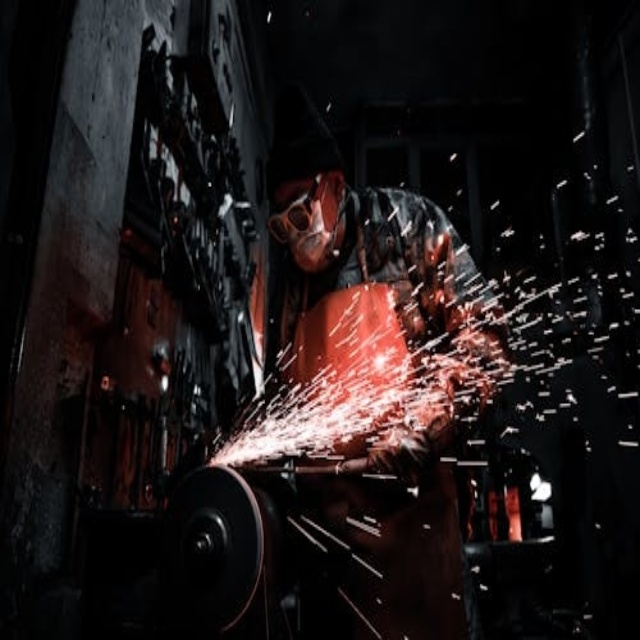Gafas: (269, 142, 332, 250)
Mascara: (269, 192, 339, 273)
